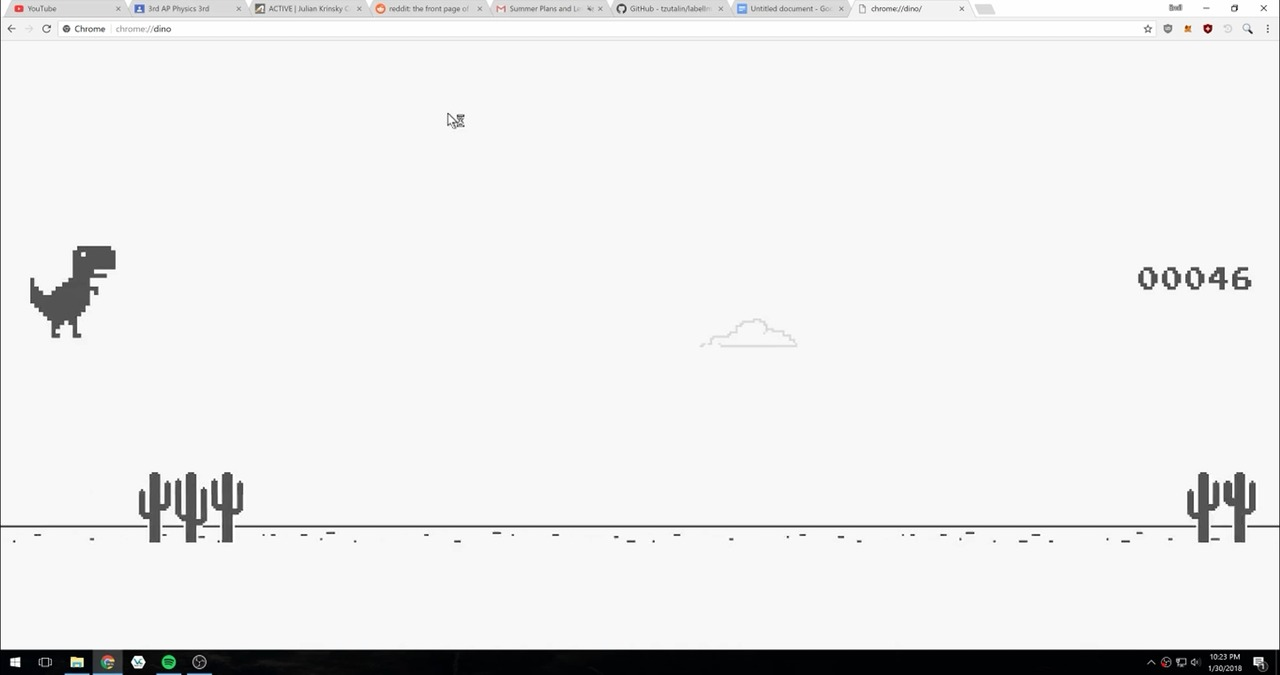cactus: (136, 466, 251, 547), (1181, 468, 1259, 547)
dinosaur: (30, 247, 119, 341)
